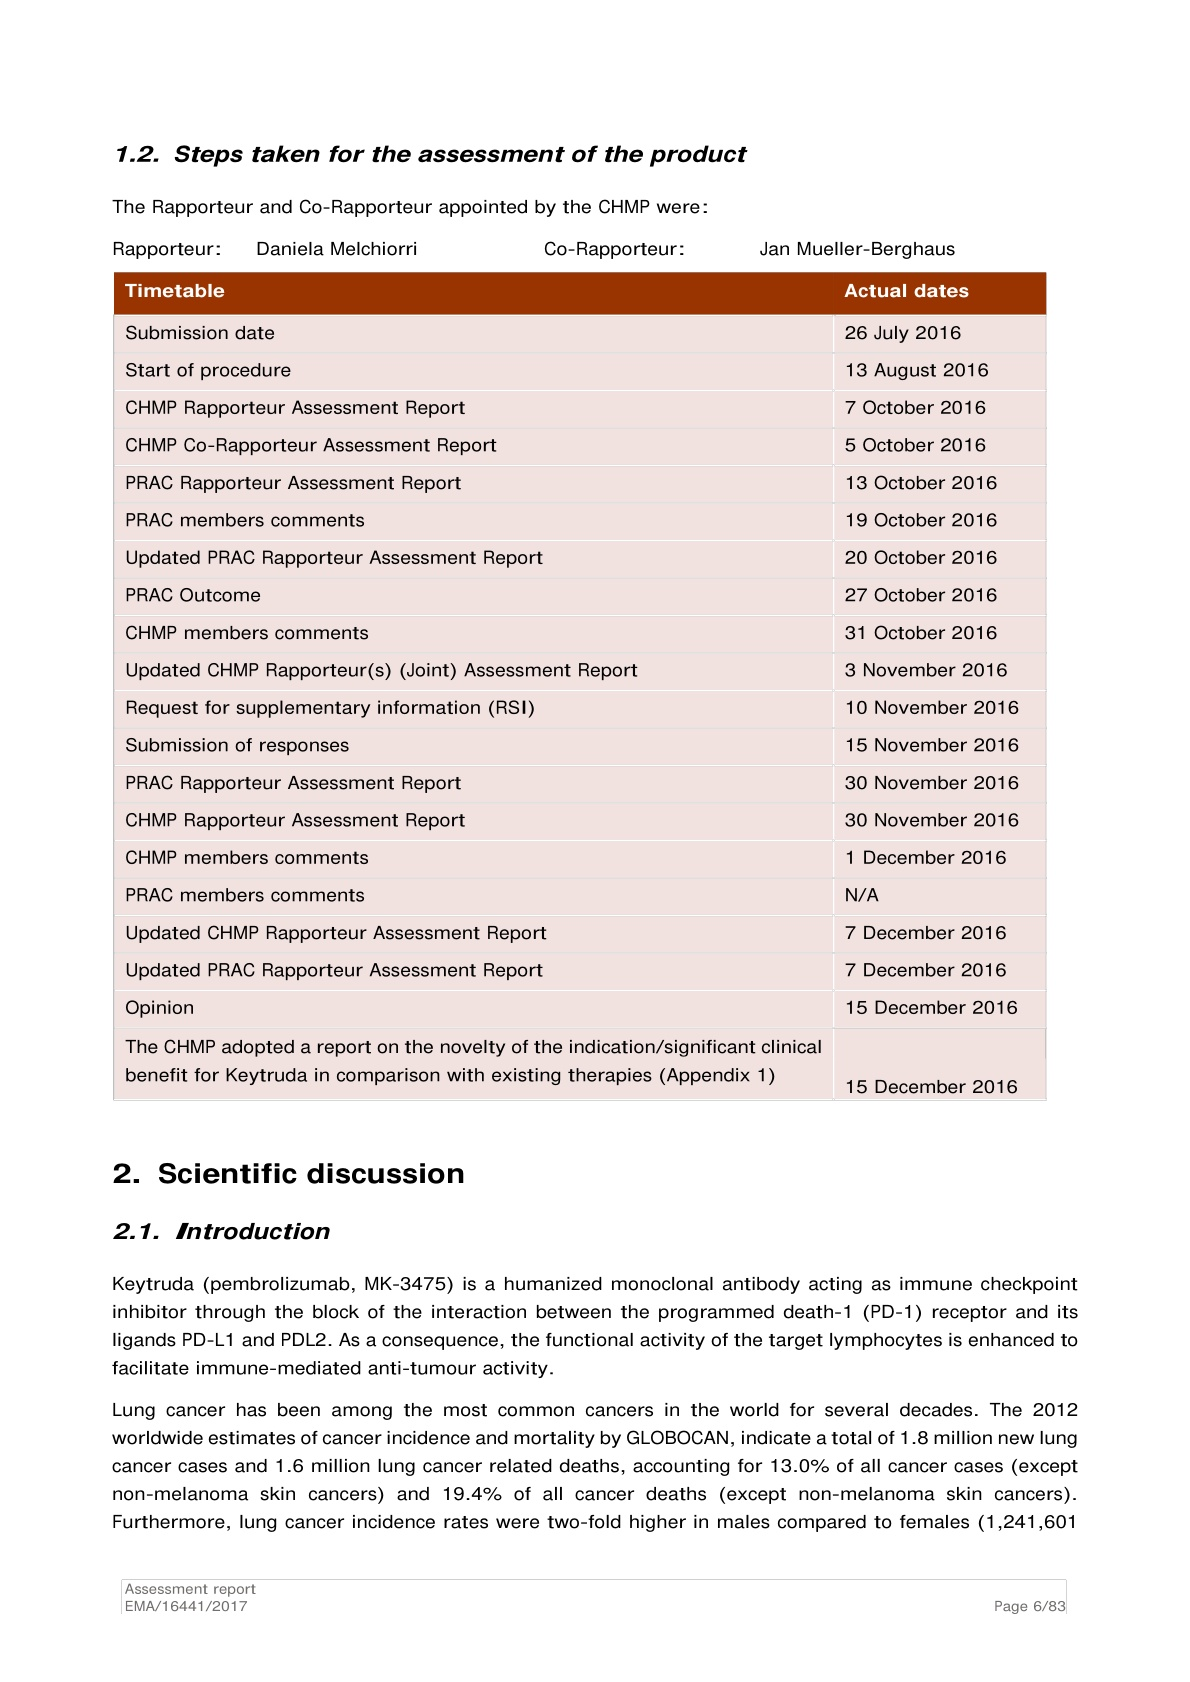full_lined: (112, 270, 1047, 1102)
